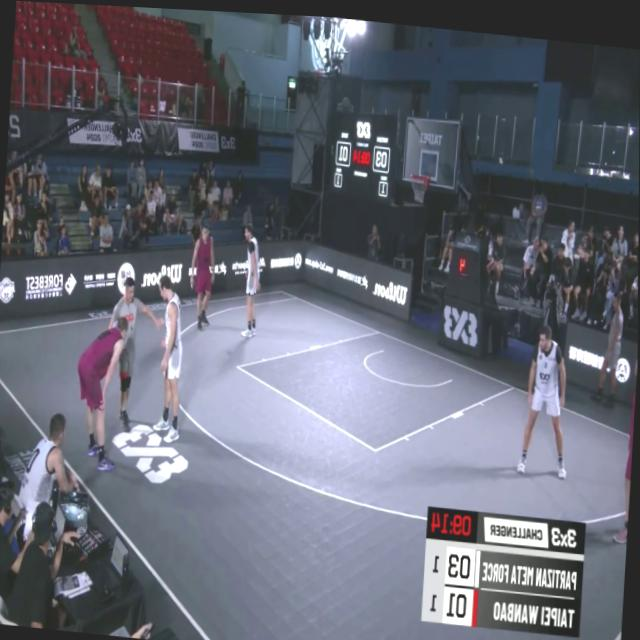ball: (110, 313, 124, 334)
hoop: (406, 165, 431, 202)
player: (75, 307, 130, 475), (519, 311, 575, 474), (149, 271, 188, 443), (610, 341, 638, 532), (188, 217, 218, 331), (236, 220, 263, 339)
